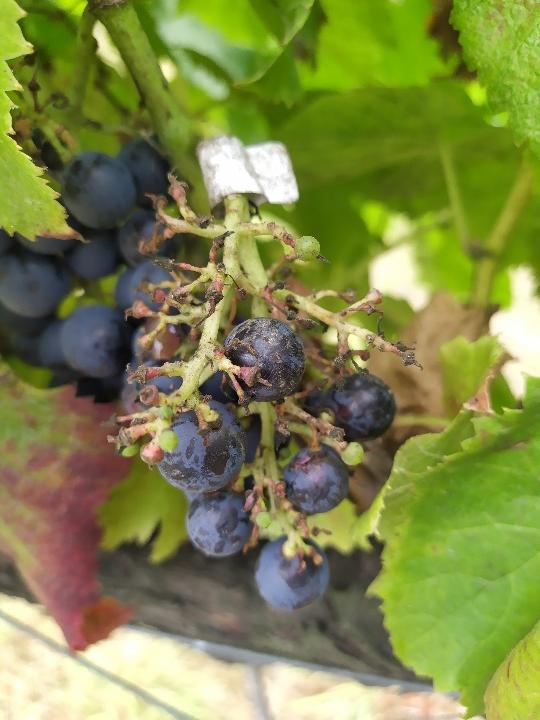grape: (97, 167, 427, 615)
